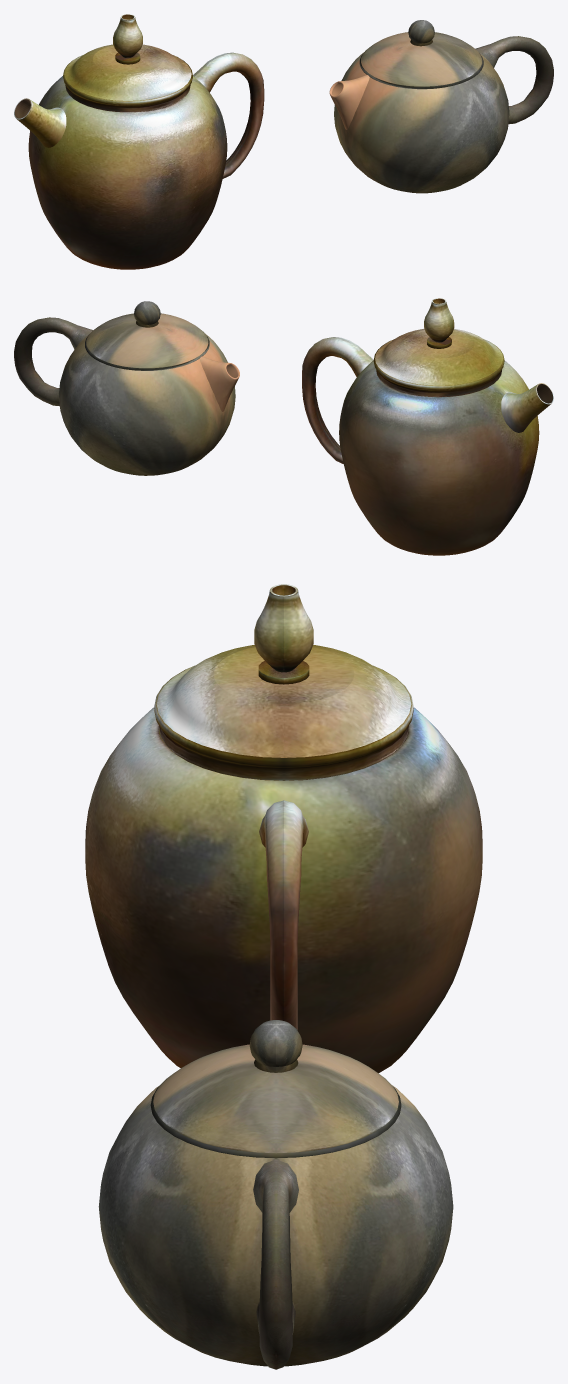
3 renders of one model, top to bottom at view 1: azimuth 30°, elevation 25°; view 2: azimuth 150°, elevation 25°; view 3: azimuth 270°, elevation 25°, orthographic. The views are drawn at different scales.
Visible parts, largest first — view 1: yanyaochahua01, yanyaochahub04, yanyaochahua02, yanyaochahub03, yanyaochahua04, yanyaochahub02, yanyaochahua05, yanyaochahua03, yanyaochahub01; view 2: yanyaochahua01, yanyaochahub04, yanyaochahua02, yanyaochahub03, yanyaochahua04, yanyaochahub02, yanyaochahua05, yanyaochahua03, yanyaochahub01; view 3: yanyaochahua01, yanyaochahub04, yanyaochahua02, yanyaochahub03, yanyaochahua04, yanyaochahub02, yanyaochahua03.
Part boxes in pixels (x1,y1,x2,y2): yanyaochahua01: (28,76,227,269); yanyaochahub04: (334,52,509,193); yanyaochahua02: (63,44,192,112); yanyaochahub03: (359,20,483,89); yanyaochahua04: (193,52,264,178); yanyaochahub02: (475,36,553,124); yanyaochahua05: (14,98,66,147); yanyaochahua03: (113,14,142,64); yanyaochahub01: (329,75,369,129); yanyaochahua01: (339,360,539,555); yanyaochahub04: (59,333,235,475); yanyaochahua02: (373,328,504,396); yanyaochahub03: (85,301,209,370); yanyaochahua04: (302,337,373,463); yanyaochahub02: (14,317,93,406); yanyaochahua05: (501,383,553,432); yanyaochahua03: (424,298,454,348); yanyaochahub01: (199,356,239,411); yanyaochahua01: (85,707,482,1073); yanyaochahub04: (98,1085,453,1366); yanyaochahua02: (154,645,413,780); yanyaochahub03: (150,1020,401,1158); yanyaochahua04: (259,800,308,1029); yanyaochahub02: (253,1159,298,1369); yanyaochahua03: (254,584,313,684).
Bounding box in the file's own units: 12.74 × 5.29 × 4.1.
3 materials, 3 textured.
